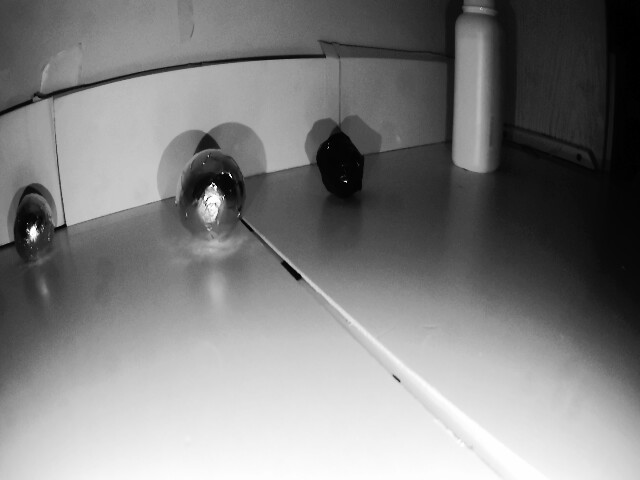black: (318, 119, 366, 201)
silver: (169, 150, 249, 242), (10, 194, 58, 264)
